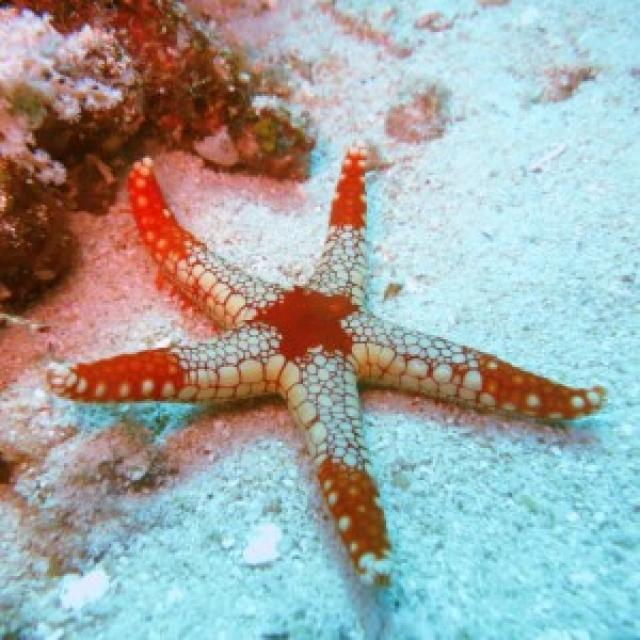Starfish: (45, 129, 610, 586)
